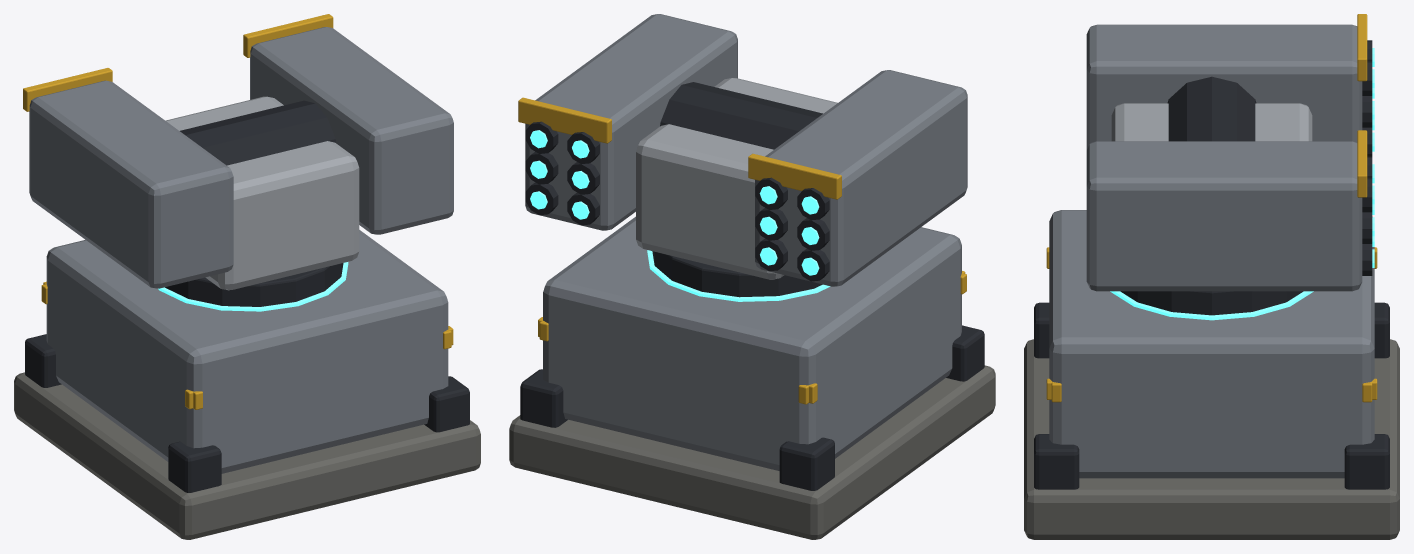
Rendered from td_rocket.glb.
3 renders of one model, left to right at view 1: azimuth 30°, elevation 25°; view 2: azimuth 150°, elevation 25°; view 3: azimuth 270°, elevation 25°, orthographic. The views are drawn at different scales.
Parts seen in each view (by area): view 1: TurretBase, TurretGun, TurretHead; view 2: TurretBase, TurretGun, TurretHead; view 3: TurretBase, TurretGun, TurretHead.
Part boxes in pixels (x1,y1,x2,y2): TurretBase: [14, 230, 480, 539]; TurretGun: [23, 14, 453, 288]; TurretHead: [165, 96, 359, 290]; TurretBase: [509, 216, 995, 539]; TurretGun: [518, 14, 967, 286]; TurretHead: [636, 78, 837, 279]; TurretBase: [1024, 210, 1399, 539]; TurretGun: [1086, 14, 1374, 291]; TurretHead: [1111, 76, 1312, 141].
Size of the model in its own units: 1.53 by 1.63 by 1.5.
